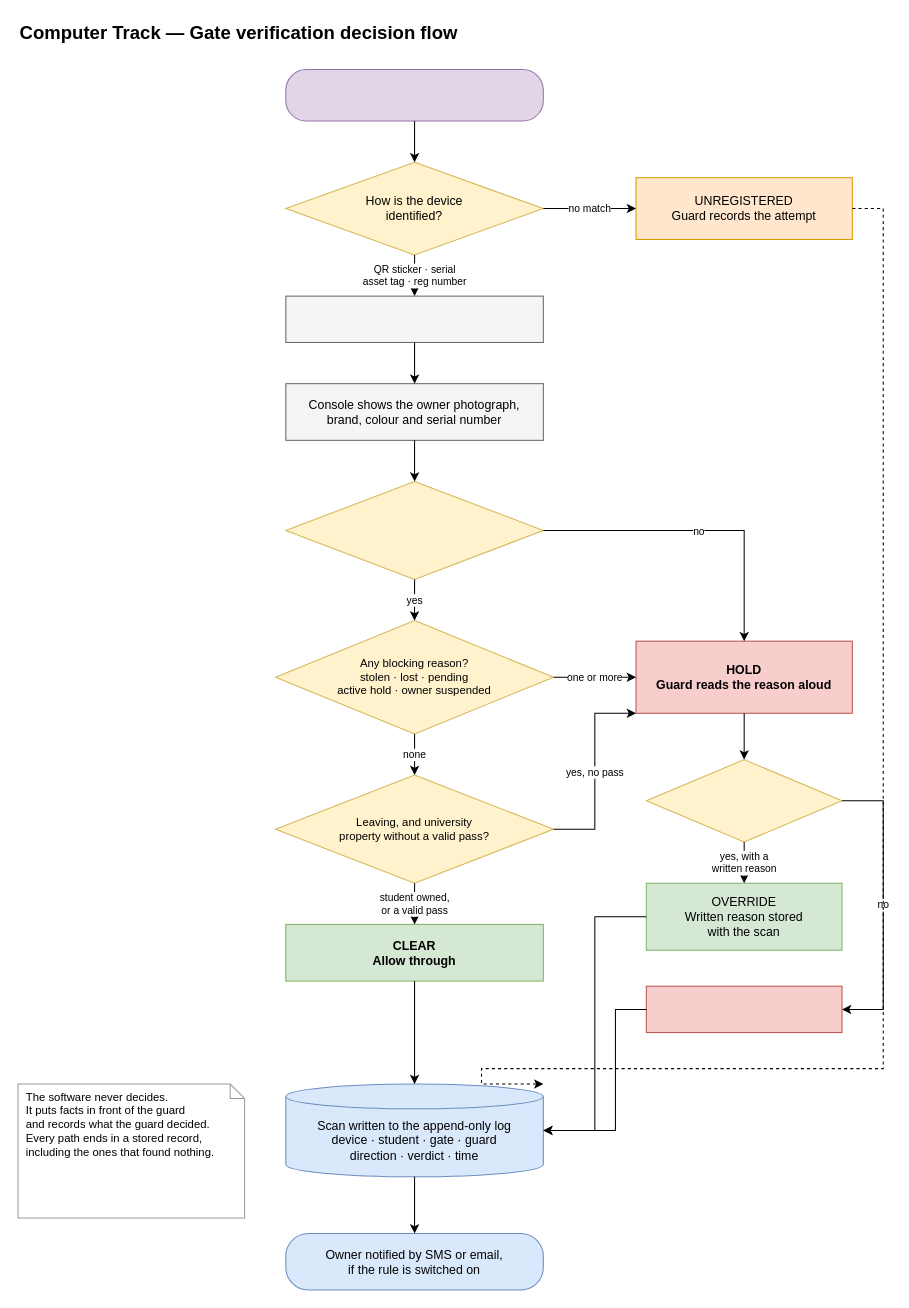
Some shapes in this 909 by 1308 pixel diagram are drawn without their labels. The centre of each missing label's shape, as x and y in pixels:
DENIED: the point at 743,1009
Device record found: the point at 414,318
Does the bearer match the owner photograph?: the point at 414,529
Guard overrides?: the point at 743,800
Student arrives at a gate carrying a device: the point at 414,94
